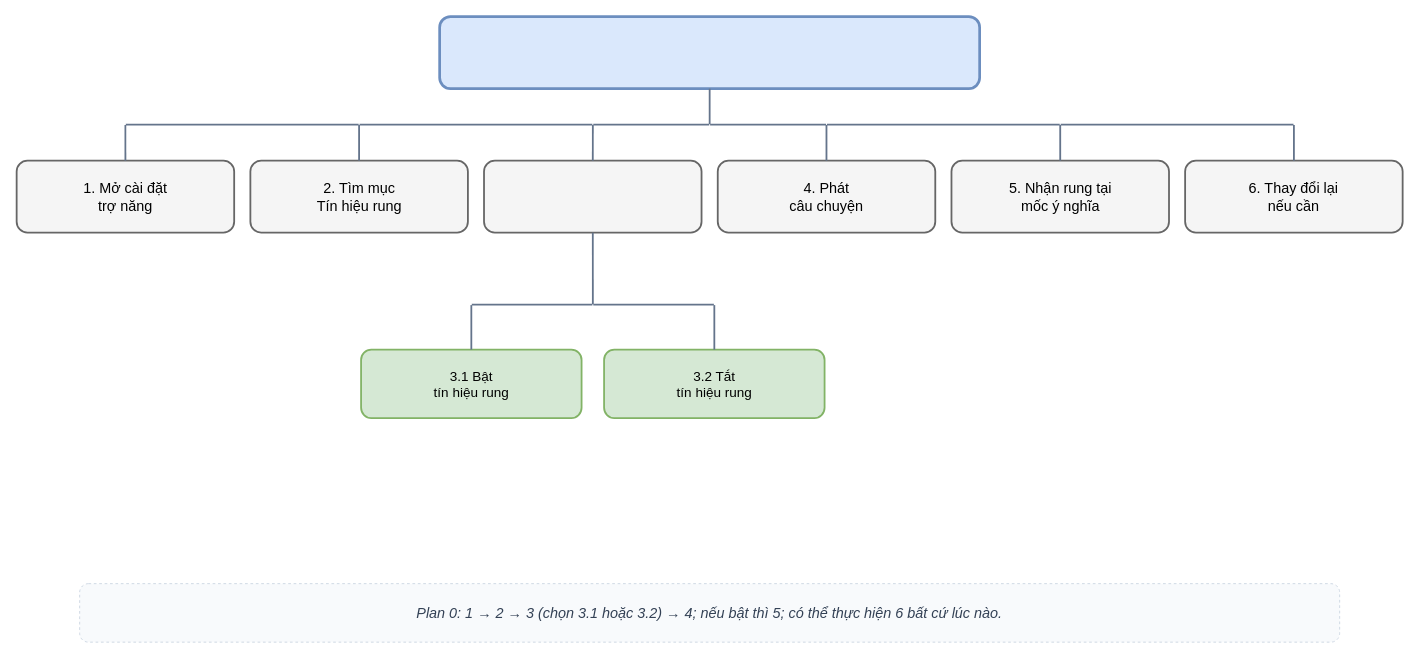
This 1418x658 diagram has some shape labels left out. The centre of each missing label's shape, as x and y in pixels:
"0. Thiết lập và sử dụng tín hiệu rung" goes at point (709, 52).
"3. Chọn trạng thái" goes at point (592, 196).
